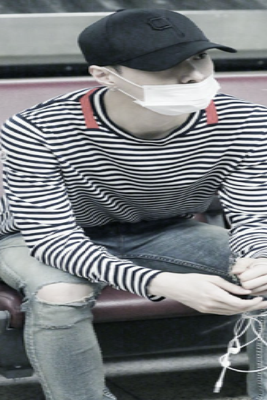mask_weared_incorrect: (121, 52, 214, 115)
